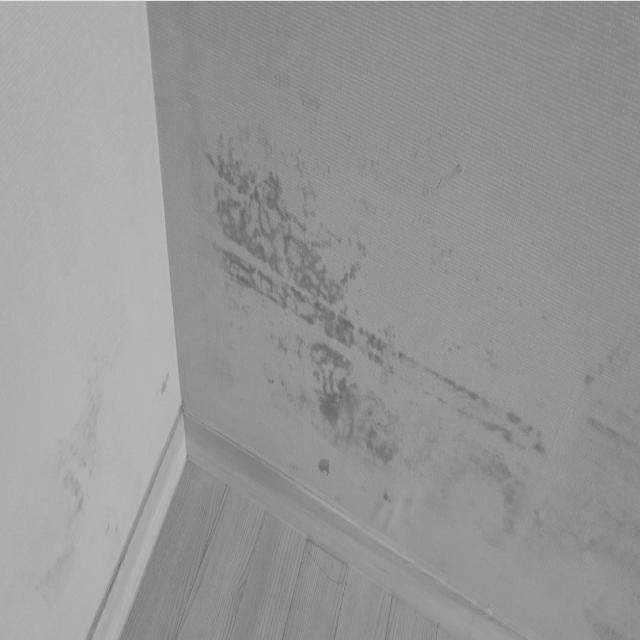stain marks: (184, 68, 640, 640), (38, 365, 112, 597), (153, 364, 176, 406)
